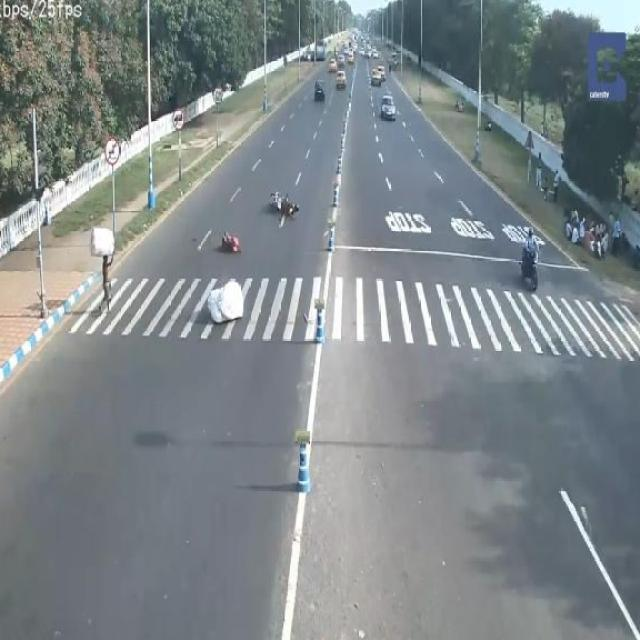accident: (261, 181, 305, 223), (217, 224, 246, 263)
